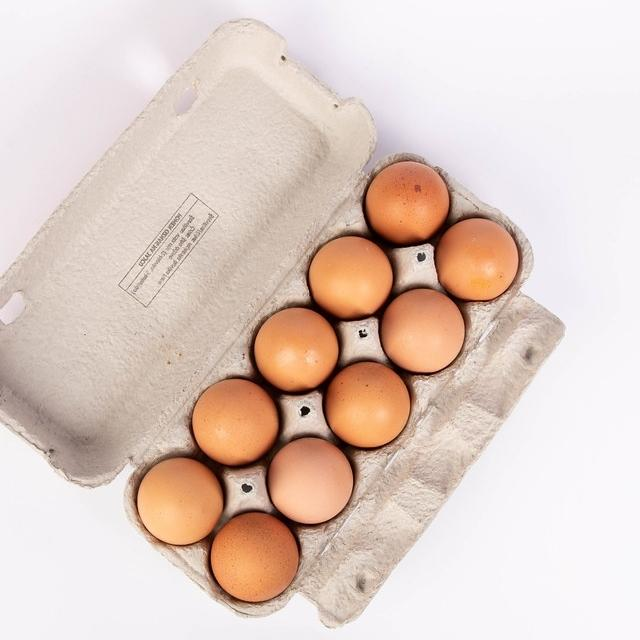egg: (209, 511, 299, 602), (191, 377, 279, 466), (136, 456, 223, 545), (267, 436, 354, 524), (324, 360, 410, 448), (379, 287, 465, 373), (253, 307, 339, 392), (307, 235, 393, 319), (363, 160, 449, 244), (434, 217, 519, 301)
